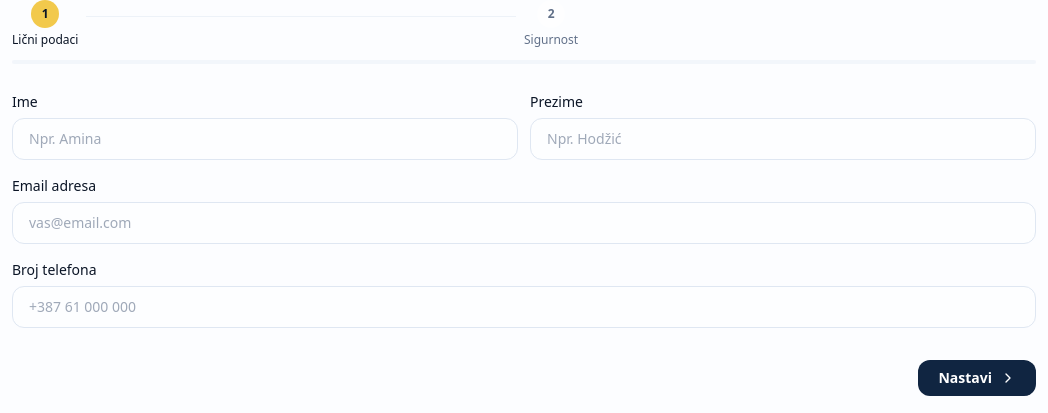
Test case: RegisterForm › moves between steps forward and back
Type "Amina" into the field labelled "Ime" at (265, 139), box [12,118,518,160]
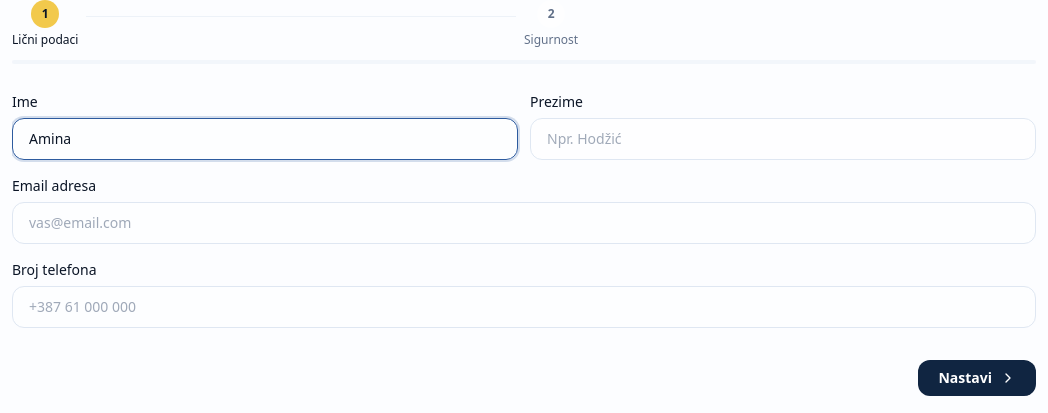
Type "Hodzic" into the field labelled "Prezime" at (783, 139), box [530,118,1036,160]
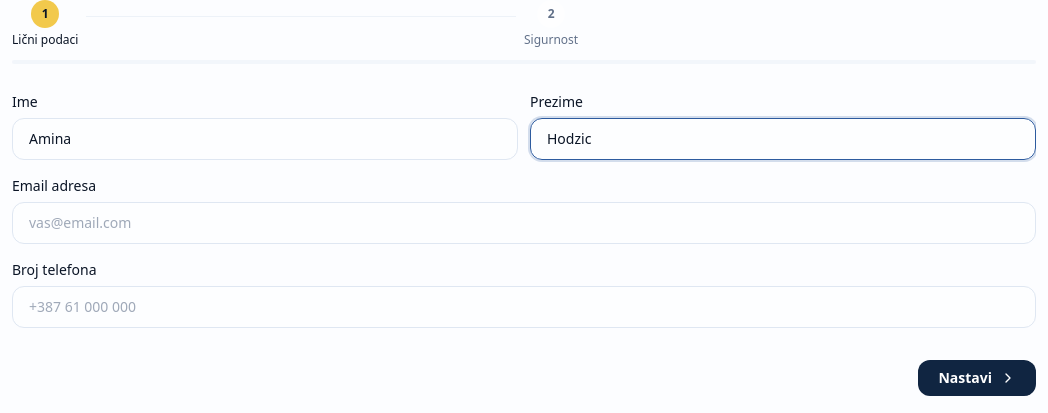
Type "amina@example.com" into the field labelled "Email adresa" at (524, 223), box [12,202,1036,244]
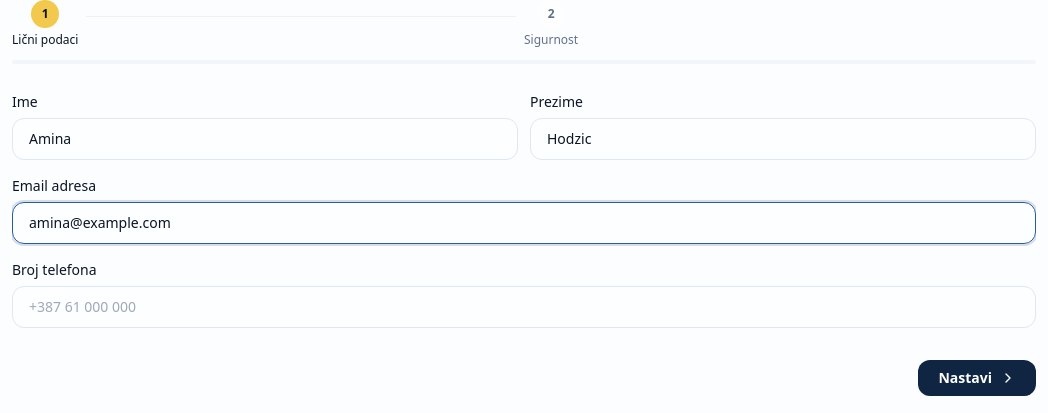
Type "+38761111222" into the field labelled "Broj telefona" at (524, 307), box [12,286,1036,328]
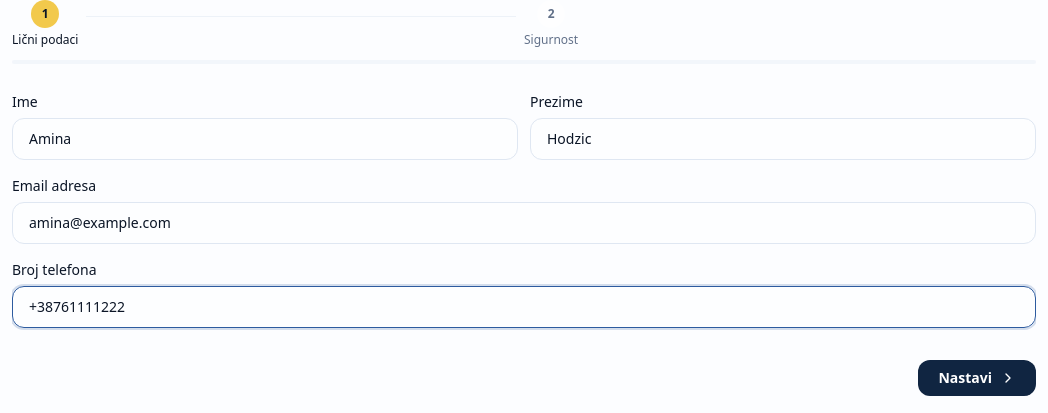
Click the button "Nastavi" at (977, 378), box [918,360,1036,396]
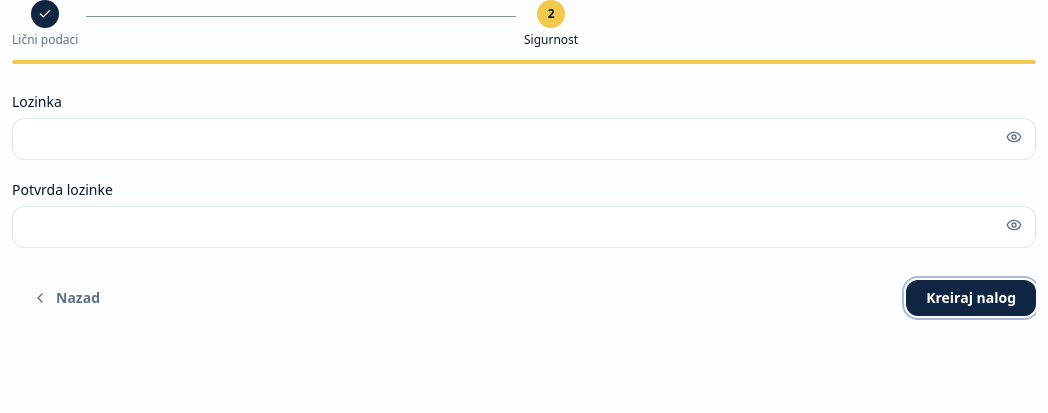
Expected: the password field labelled "Lozinka" is shown, [12,118,1036,160]
Click the button "Nazad" at (66, 298), box [12,280,120,316]
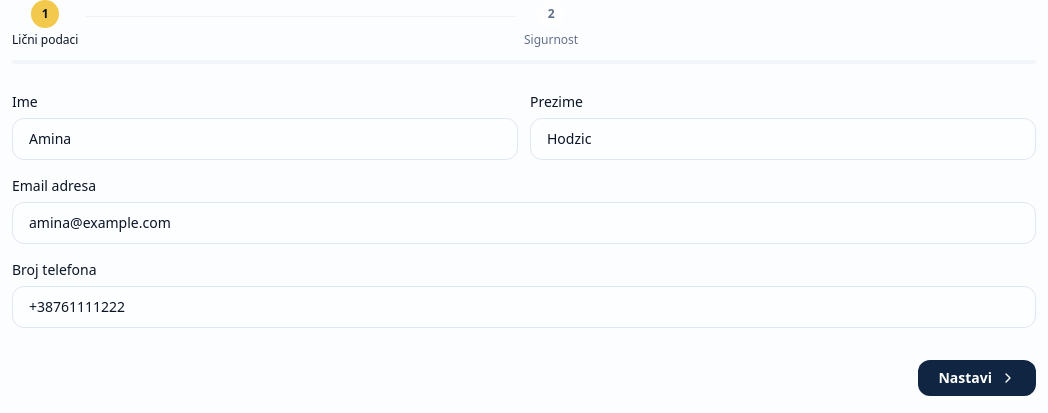
Expected: the field labelled "Ime" is shown, [12,118,518,160]
